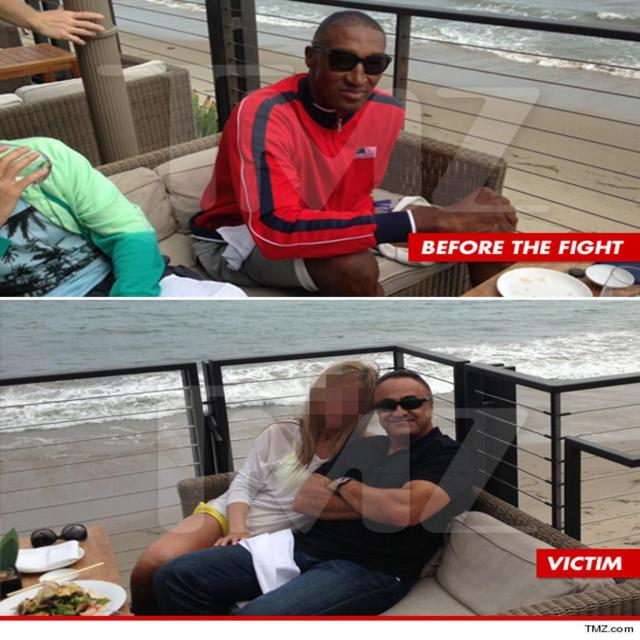nomask: (318, 22, 388, 111), (376, 380, 429, 434)
